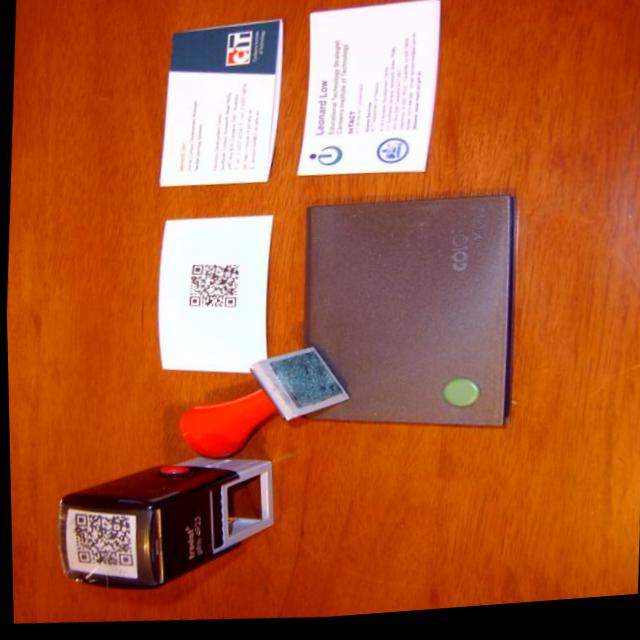qrcode: (71, 511, 135, 571), (188, 265, 240, 313)
